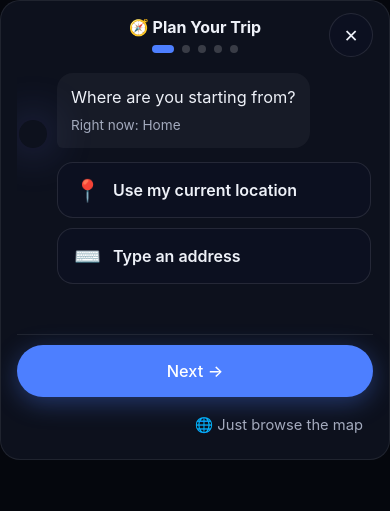
Test: Plan Your Trip wizard › with 10 or more ratings both buttons show
Click the button "Next →" at (195, 371), box [17,345,373,397]
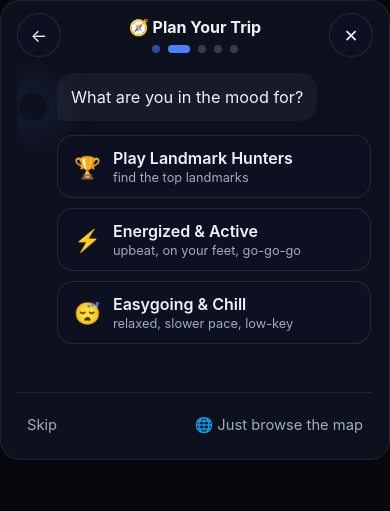
Click the button "😴 Easygoing & Chill relaxed, slower pace, low-key" at (214, 313), box [57,282,371,344]
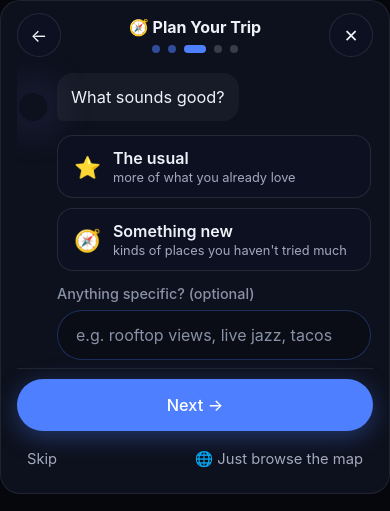
expect the button "⭐ The usual more of what you already love" is shown: met, box [57,136,371,198]
expect the button "🧭 Something new kinds of places you haven't tried much" is shown: met, box [57,208,371,272]
